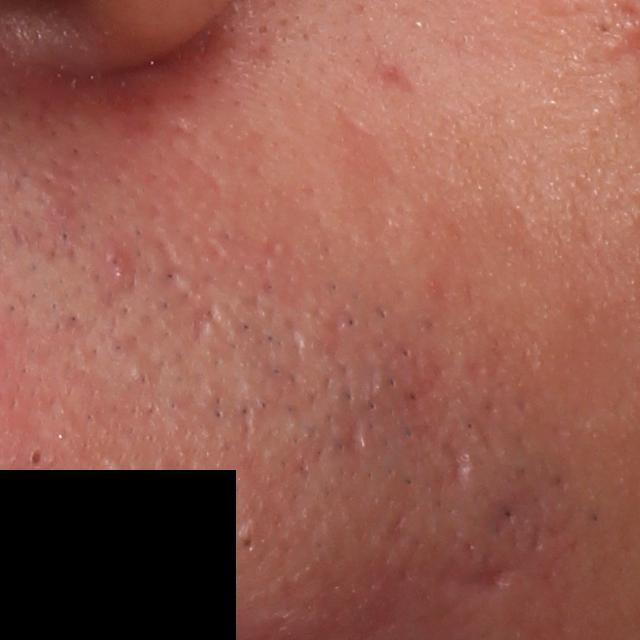atrophic_scar: (463, 552, 523, 590), (371, 51, 416, 97), (444, 434, 473, 491), (186, 297, 220, 342)
comedo: (22, 441, 51, 473), (238, 528, 263, 556)
papule: (105, 244, 131, 283)
